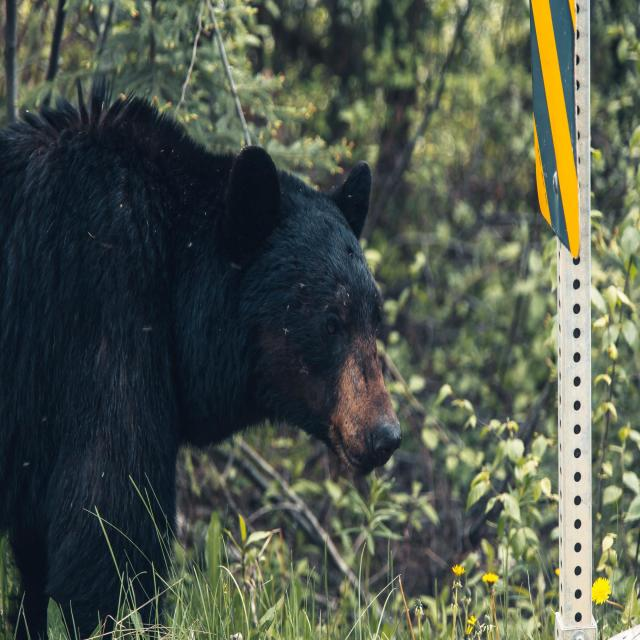Bear: (0, 98, 403, 640)
